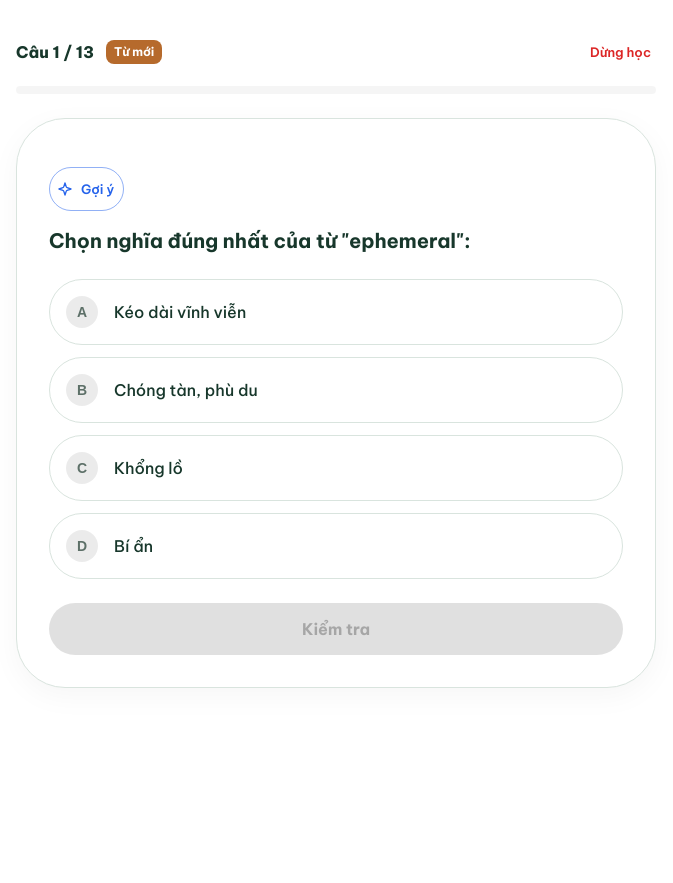
Test: Tutor UI Features › advances seamlessly to the next question when clicking next without exiting
Check: the heading "Chọn nghĩa đúng nhất của từ \"ephemeral\":" is shown, box [49,228,471,253]
Select option B & submit question 1
Click the radio button with aria-label "Lựa chọn B". click: (82, 390)
box: [49,357,623,423]
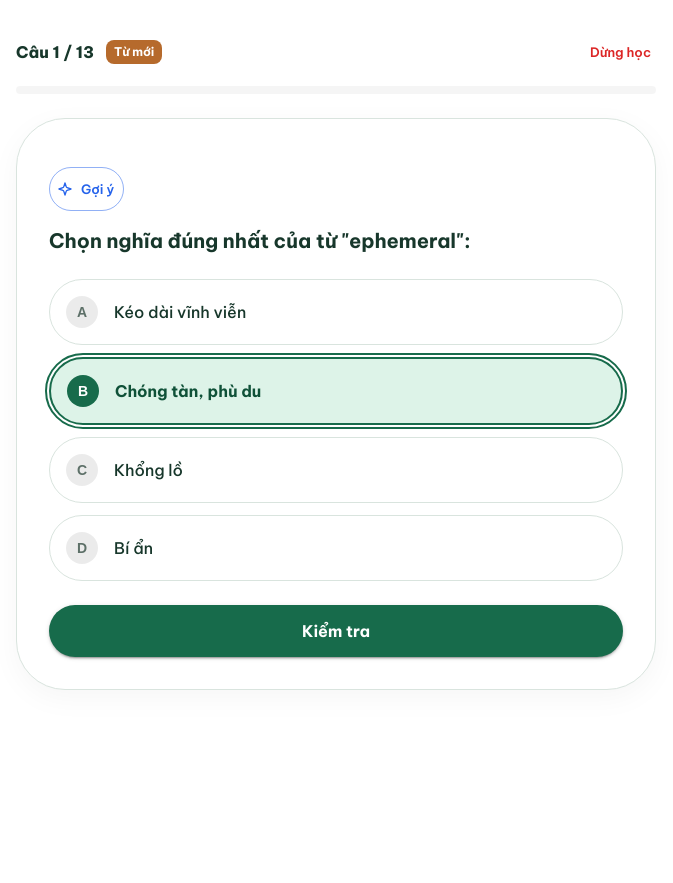
Click the button "Kiểm tra". click: (336, 631)
box: [49,605,623,657]
(page scrolled)
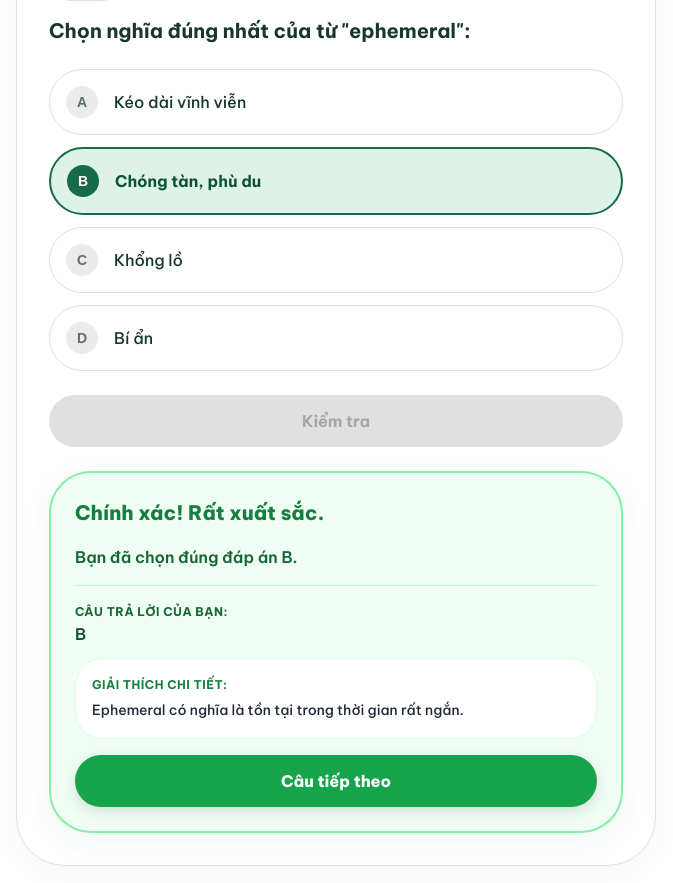
Check: the button "Câu tiếp theo" is shown
Click the button "Câu tiếp theo". click: (336, 781)
box: [75,755,597,807]
(page scrolled)
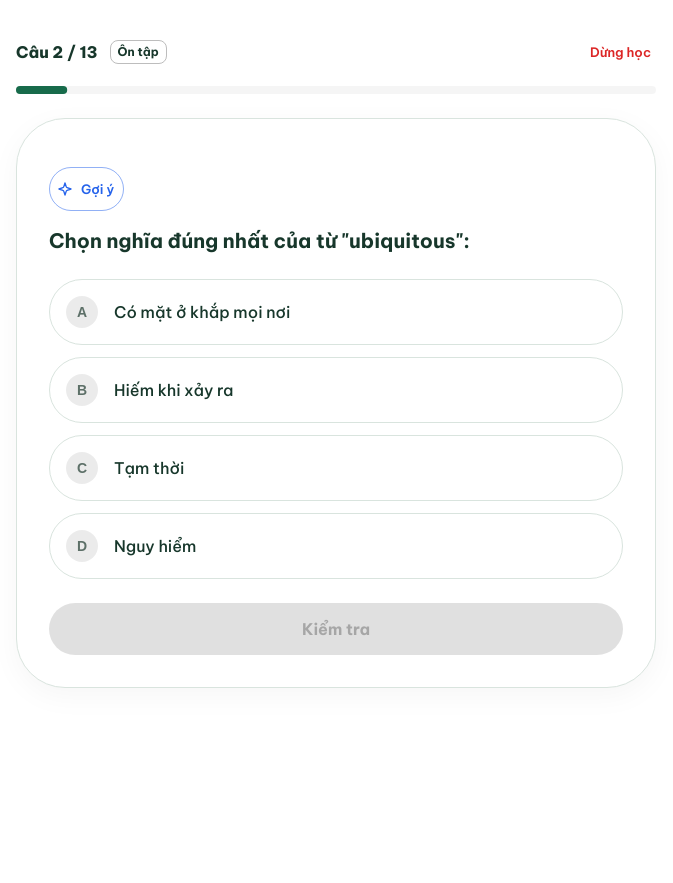
Check: the heading "Chọn nghĩa đúng nhất của từ \"ubiquitous\":" is shown, box [49,228,470,253]
Check: the heading "Câu 2 / 13" is shown, box [16,38,98,66]
Select option A & submit question 2
Click the radio button with aria-label "Lựa chọn A". click: (82, 312)
box: [49,279,623,345]
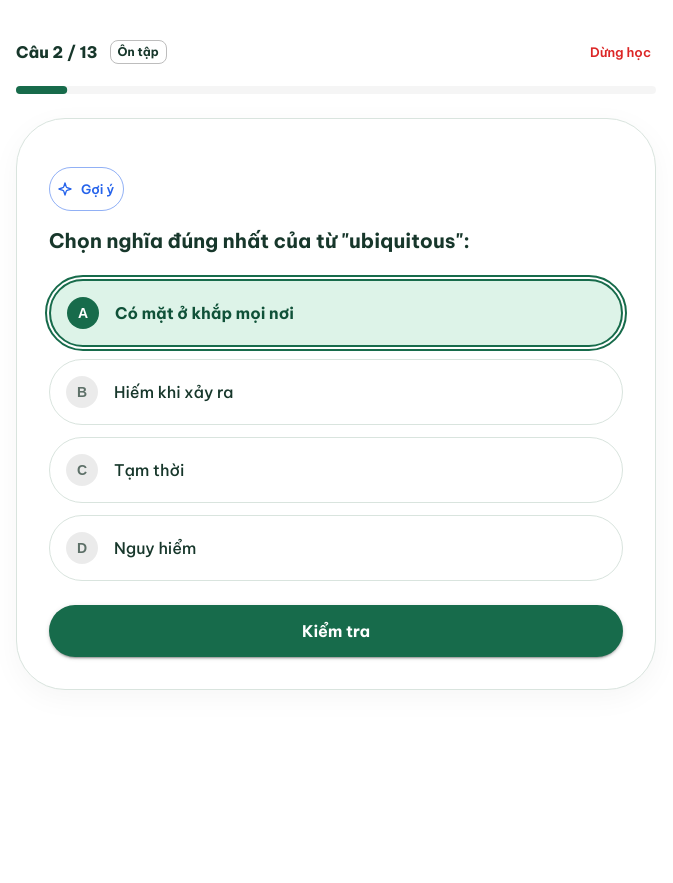
Click the button "Kiểm tra". click: (336, 631)
box: [49,605,623,657]
(page scrolled)
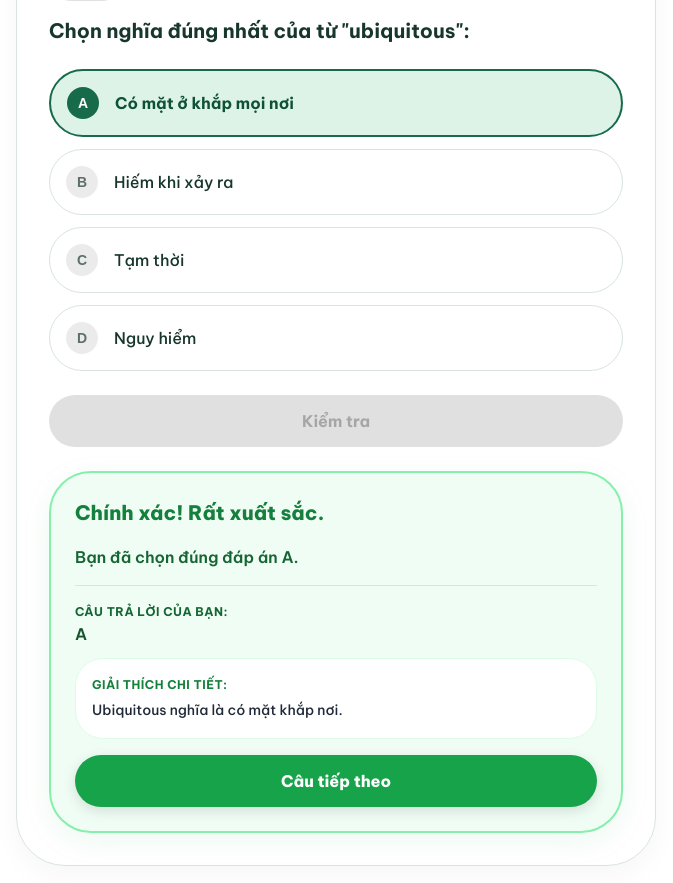
Check: the text "Ubiquitous nghĩa là có mặt khắp nơi." is shown, box [92,701,343,719]
